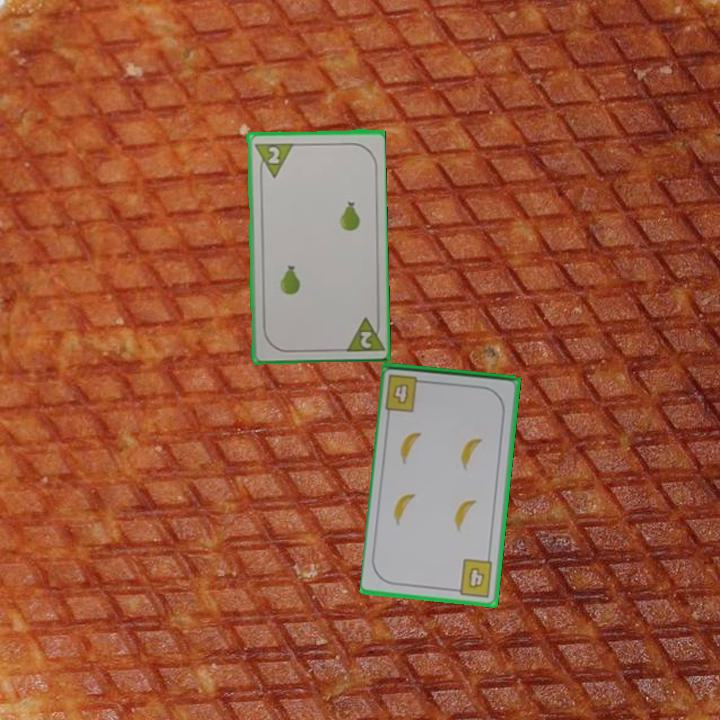2p: (341, 312, 385, 355), (264, 143, 282, 167)
4b: (382, 370, 430, 415), (450, 555, 496, 600)
